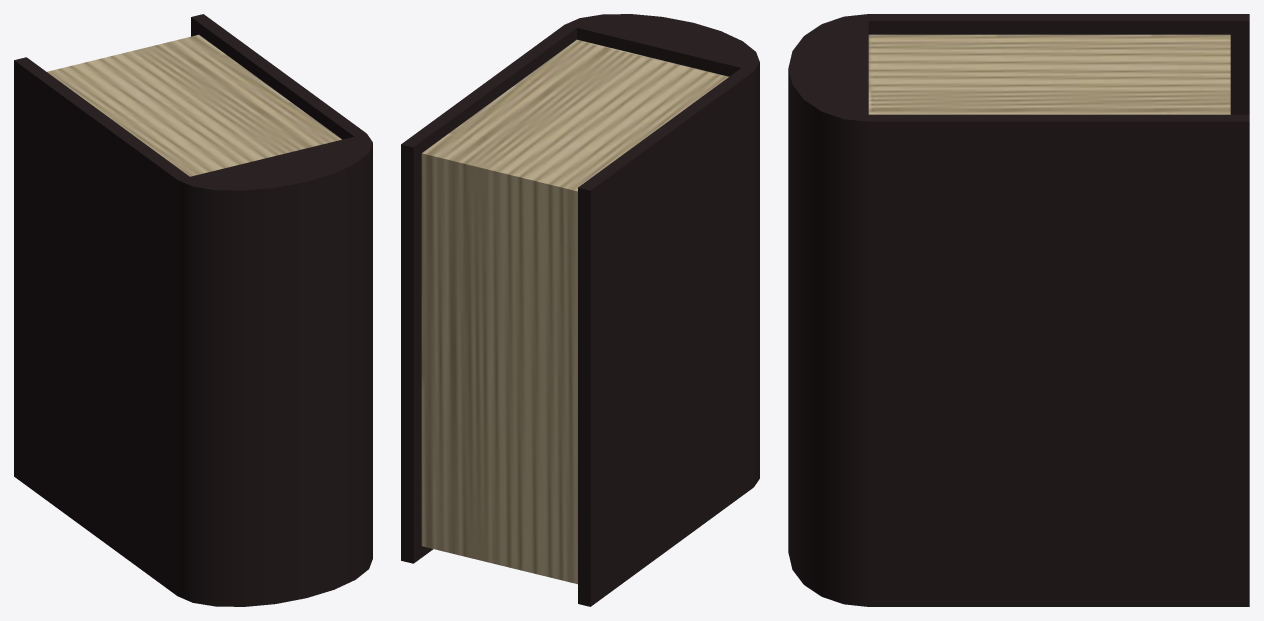
Rendered from Book.fbx.
The picture shows the model from 3 angles, left to right: view 1: azimuth 30°, elevation 25°; view 2: azimuth 150°, elevation 25°; view 3: azimuth 270°, elevation 25°; orthographic projection. The views are drawn at different scales.
Parts seen in each view (by area): view 1: pCylinder1; view 2: pCylinder1; view 3: pCylinder1.
Boxes of the visible parts, box(x1,y1,x2,y2) form: pCylinder1: box(14, 14, 372, 606); pCylinder1: box(401, 14, 759, 606); pCylinder1: box(788, 14, 1249, 606).
Size of the model in its own units: 0.9531 by 2 by 1.72.
Materials: 1 (1 with a texture image).
